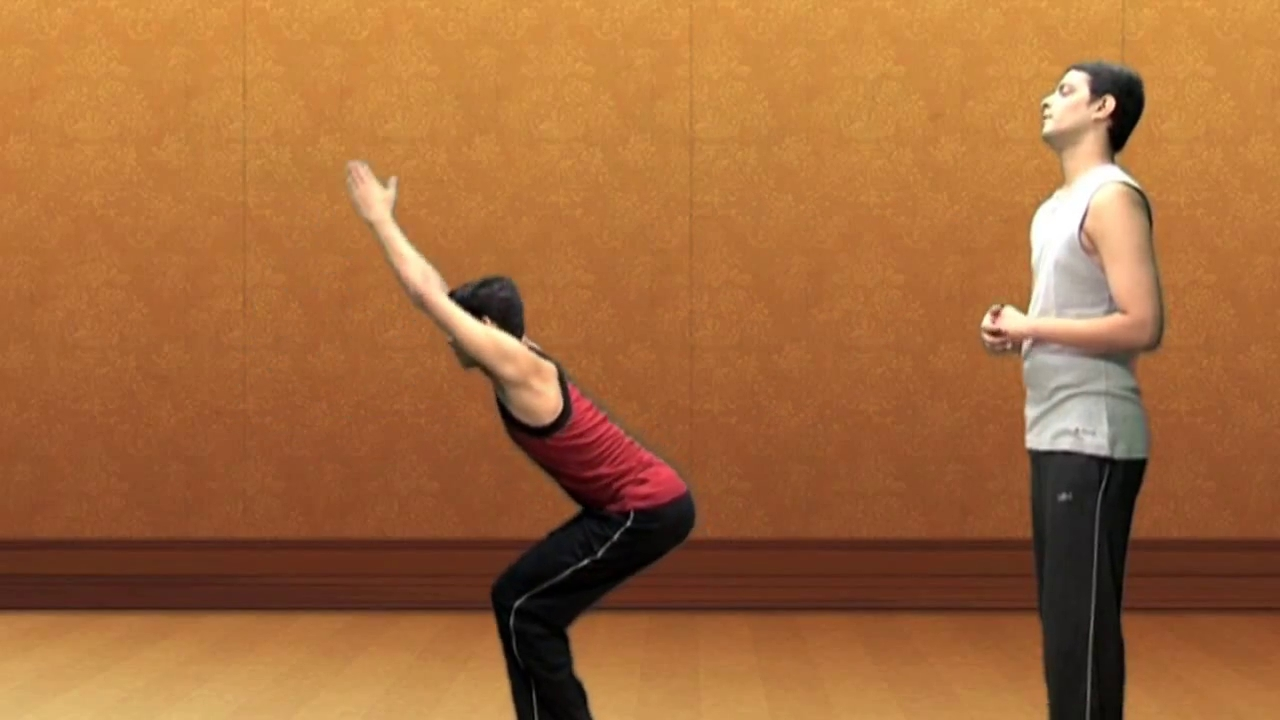person: (342, 160, 695, 720), (979, 62, 1166, 720)
